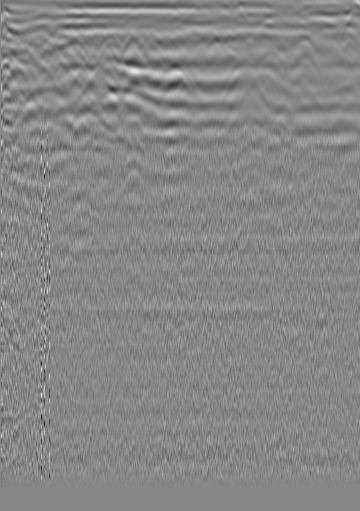가스: (260, 138, 297, 172)
상수: (0, 38, 20, 58)
우수: (124, 28, 144, 48)
